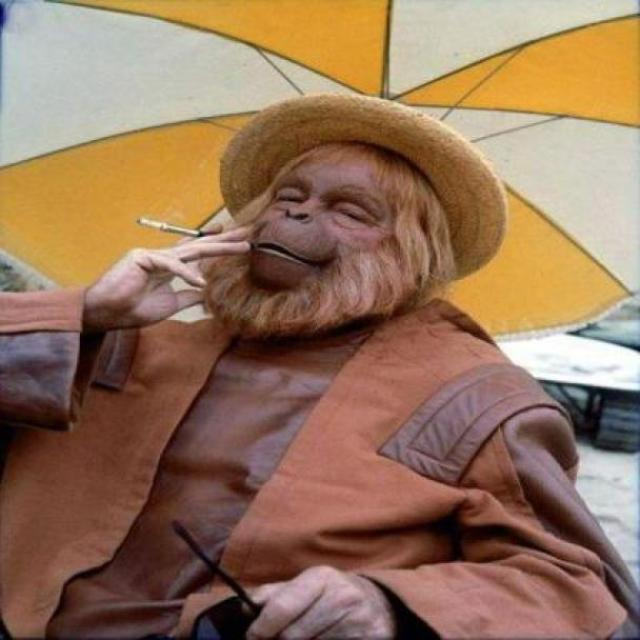rokok: (130, 212, 208, 244)
